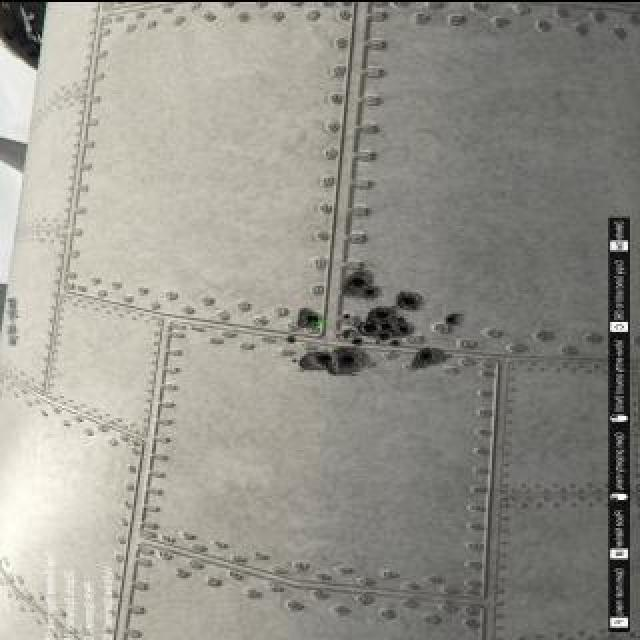crack: (303, 347, 371, 375), (363, 310, 413, 338), (341, 272, 381, 300), (414, 347, 446, 367), (399, 292, 423, 308), (299, 310, 317, 326), (337, 330, 357, 342), (445, 314, 463, 326)
